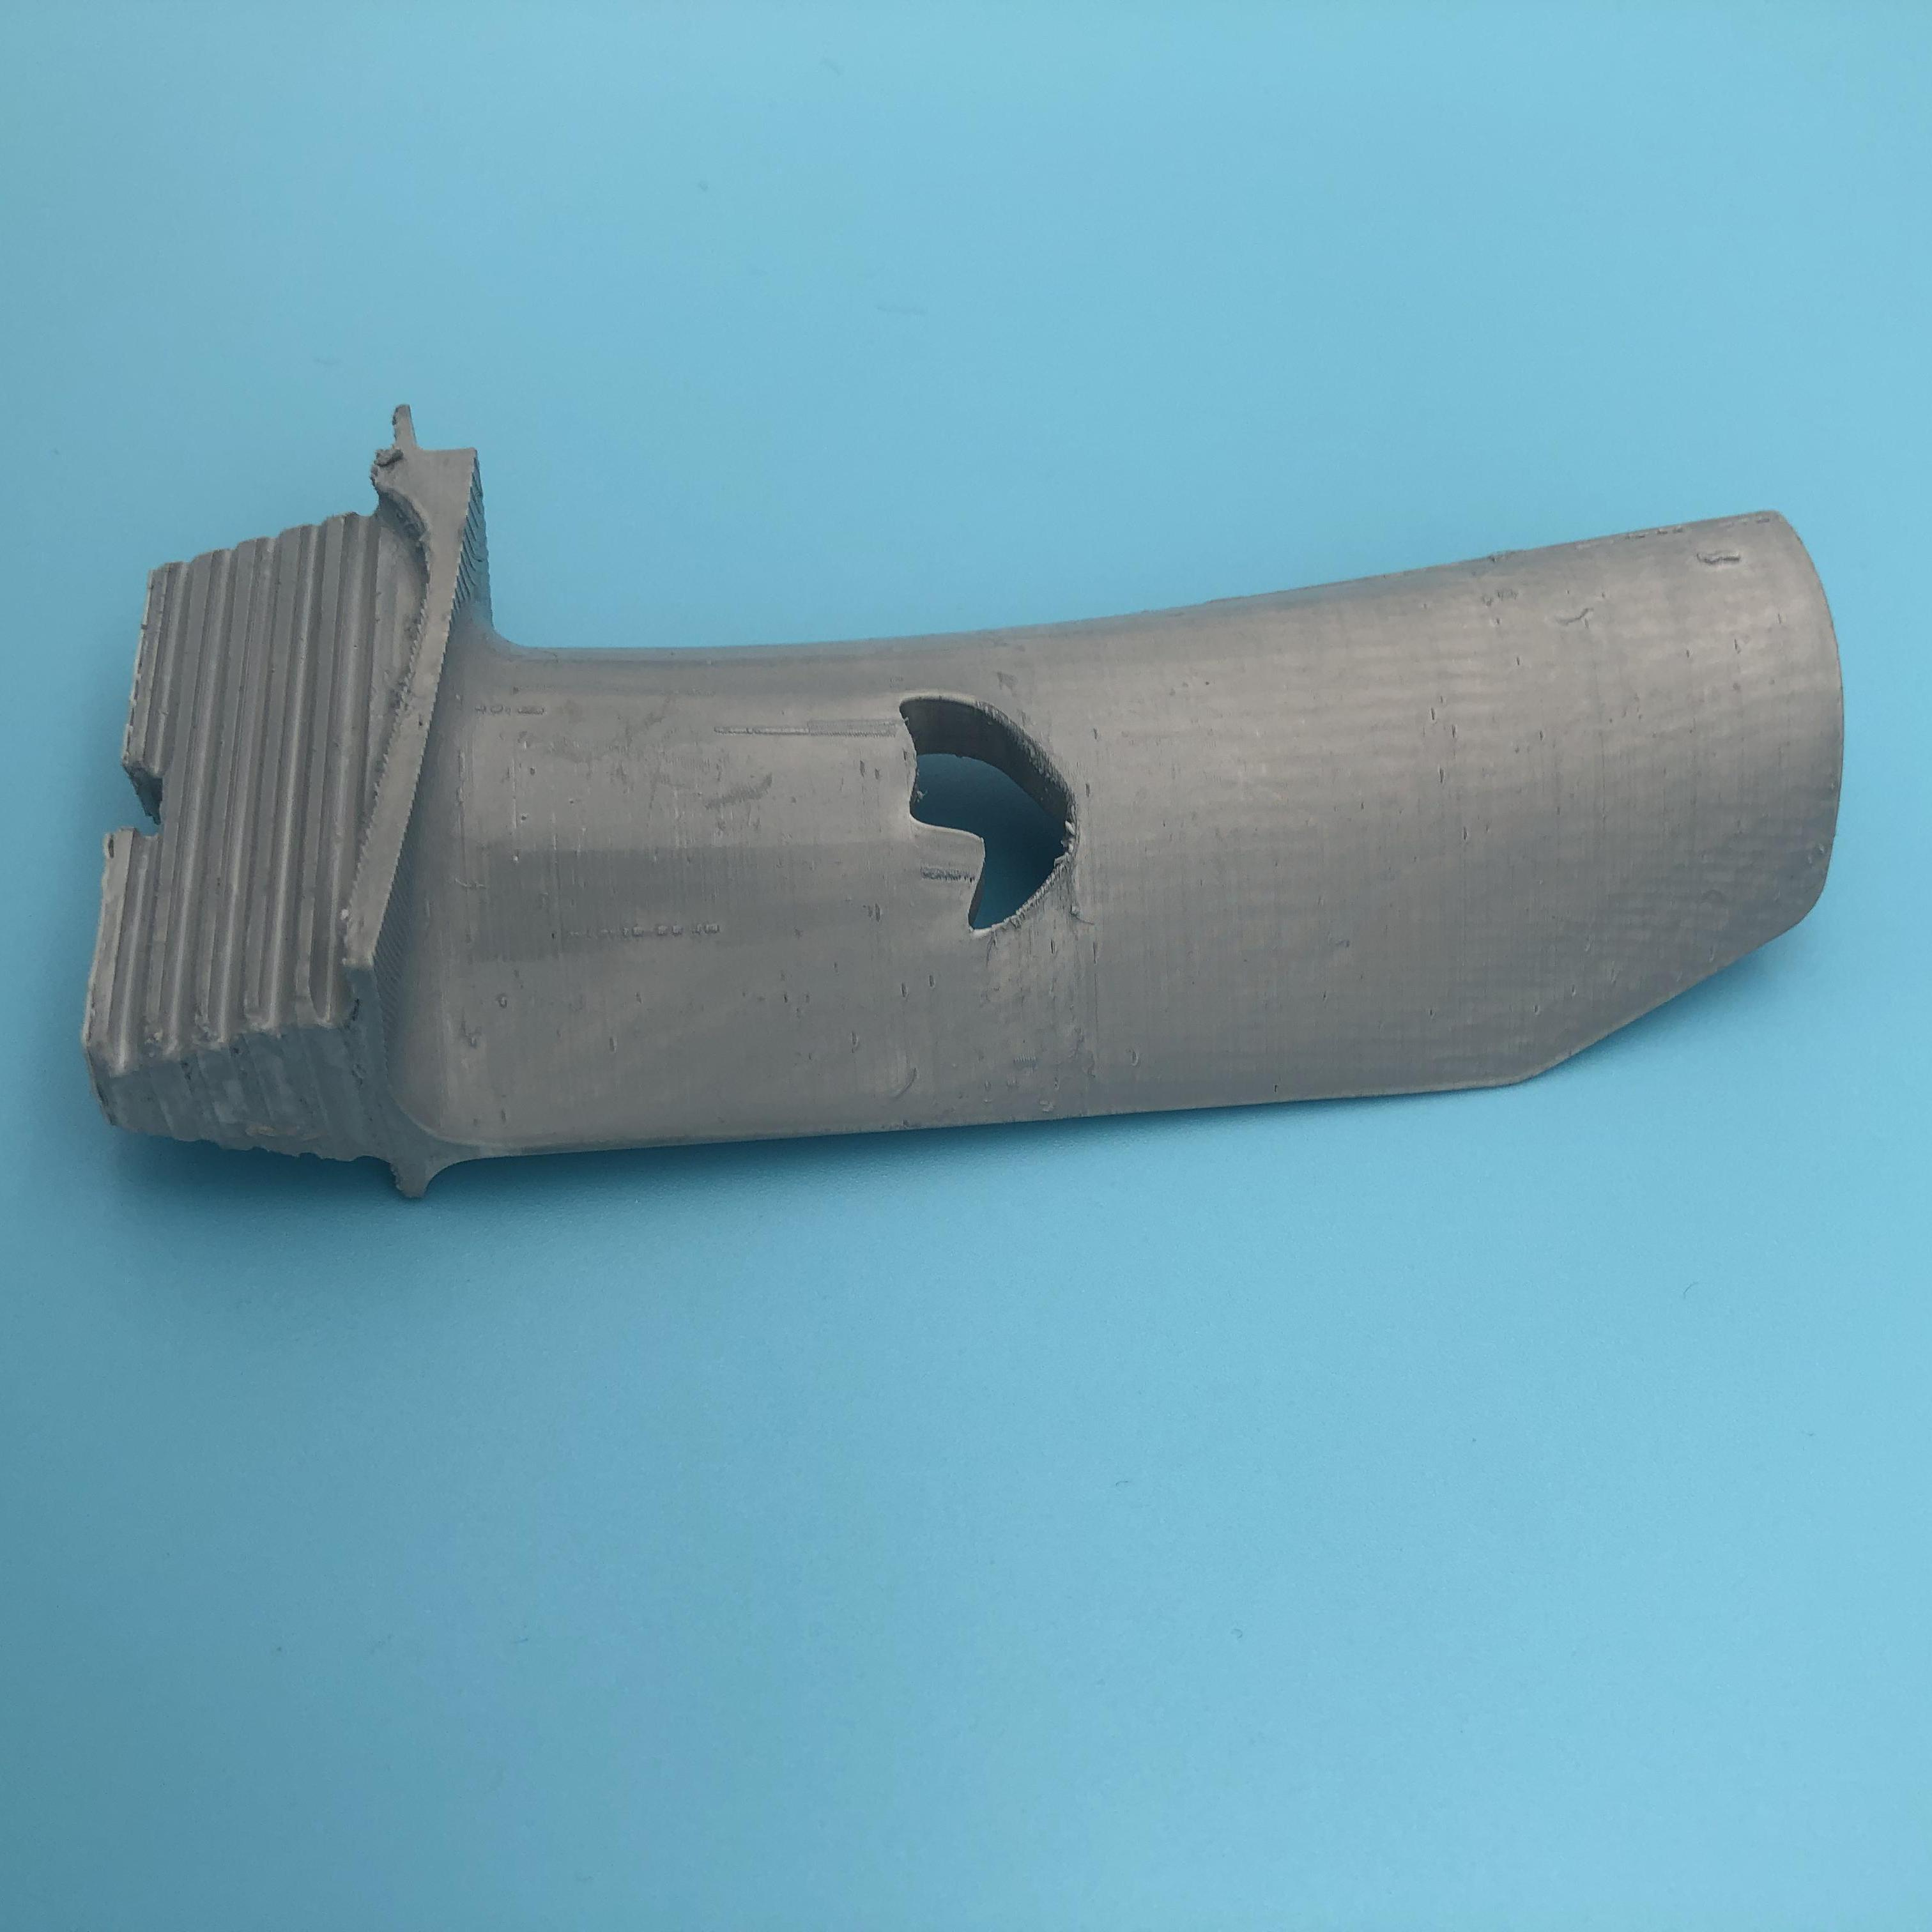breakdown: (888, 685, 1100, 955)
